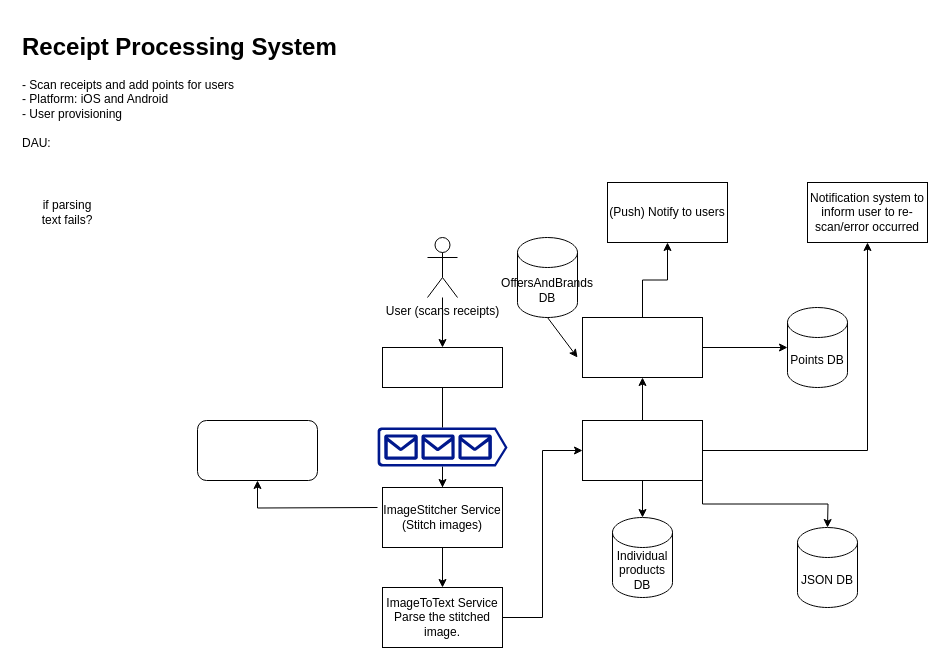
Image size: 945x665. Some labels were removed from this diagram. The shapes that lost their labels are listed below. From the top down, each one's centre as x and y in pixels, then its label:
At pixel 442 367: "Load Balancer".
At pixel 642 347: "Process Points (produces points based off of brands and offers)".
At pixel 257 450: "Stitched image gets stored on BLOB (S3)".
At pixel 642 450: "Parse Text (produces JSON)".
